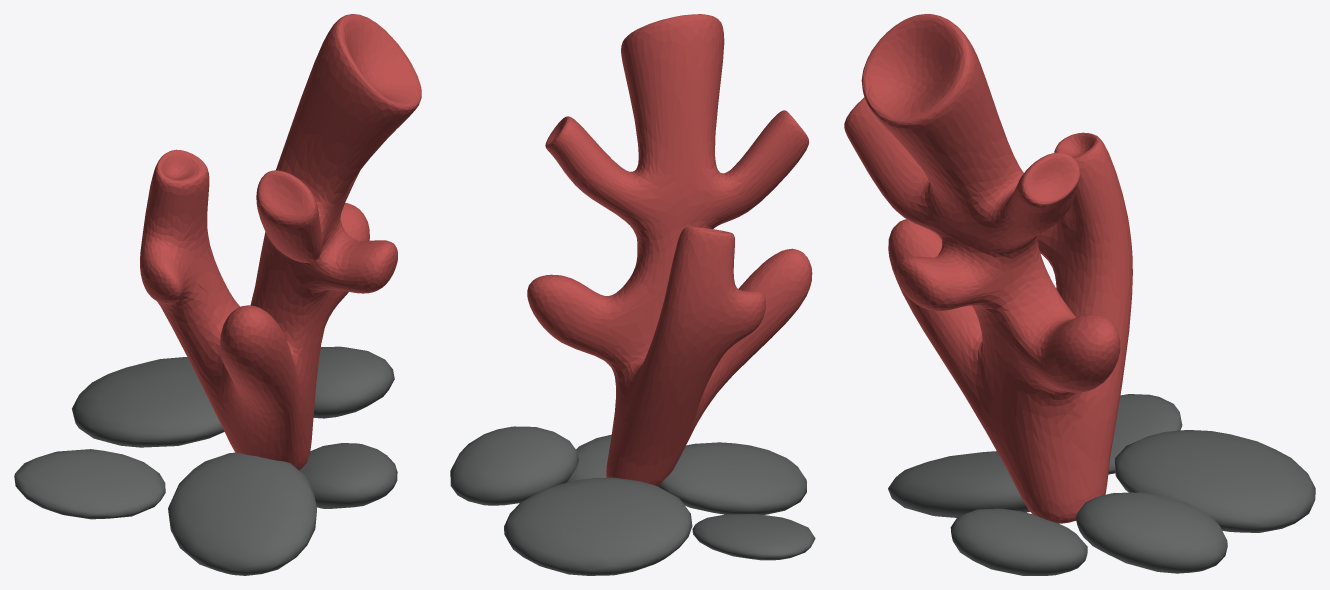
The model's file is seaplant.gltf.
The picture shows the model from 3 angles, left to right: view 1: azimuth 30°, elevation 25°; view 2: azimuth 150°, elevation 25°; view 3: azimuth 270°, elevation 25°; orthographic projection. The views are drawn at different scales.
Parts seen in each view (by area): view 1: body1.001, rock1.001; view 2: body1.001, rock1.001; view 3: body1.001, rock1.001.
Boxes of the visible parts, x1,y1,x2,y2 form: body1.001: [140, 14, 421, 470]; rock1.001: [14, 346, 397, 575]; body1.001: [527, 14, 812, 486]; rock1.001: [450, 426, 815, 575]; body1.001: [844, 14, 1132, 523]; rock1.001: [888, 394, 1315, 575].
Size of the model in its own units: 3.43 by 4.54 by 3.63.
2 materials, 2 textured.
